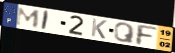2: (68, 16, 85, 37)
F: (135, 23, 159, 47)
I: (40, 10, 51, 32)
K: (90, 18, 108, 40)
M: (15, 7, 42, 29)
Q: (113, 22, 136, 44)
